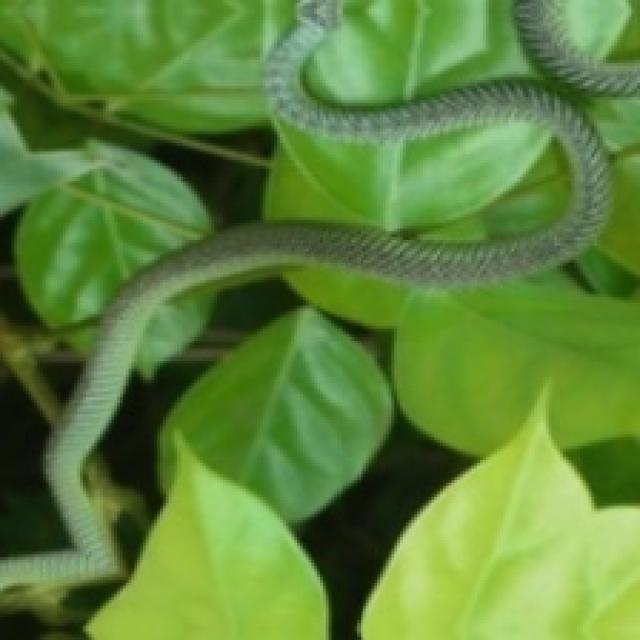paradise tree snake: (0, 0, 637, 637), (123, 134, 269, 231)
